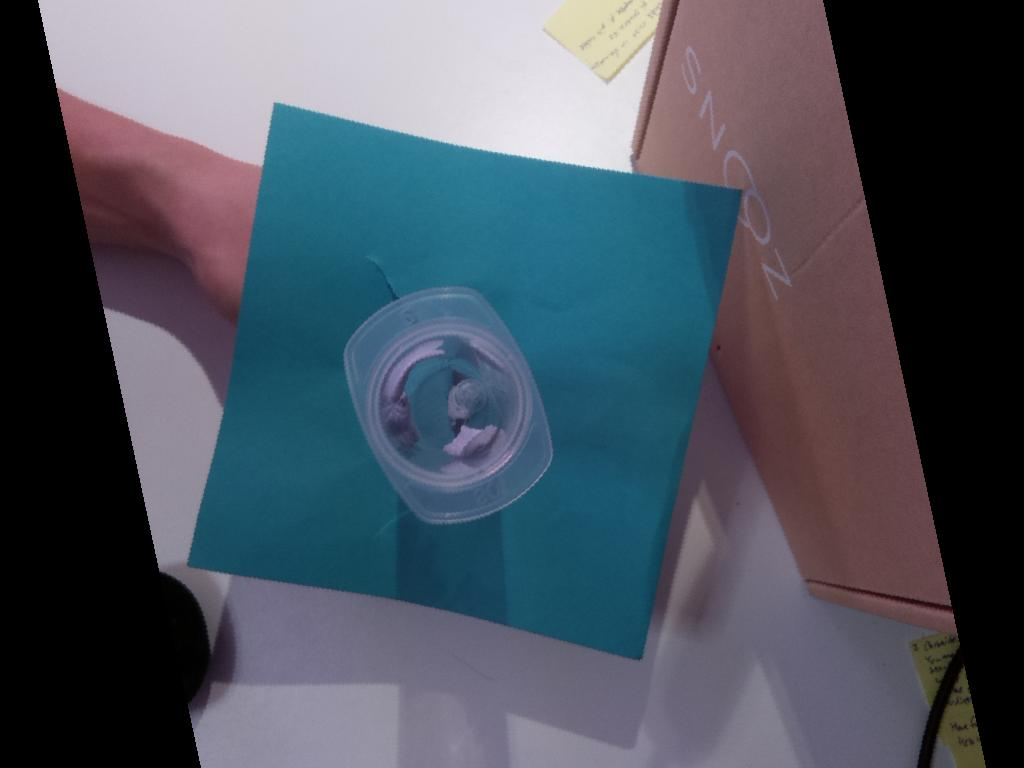dirty: (339, 284, 555, 528)
